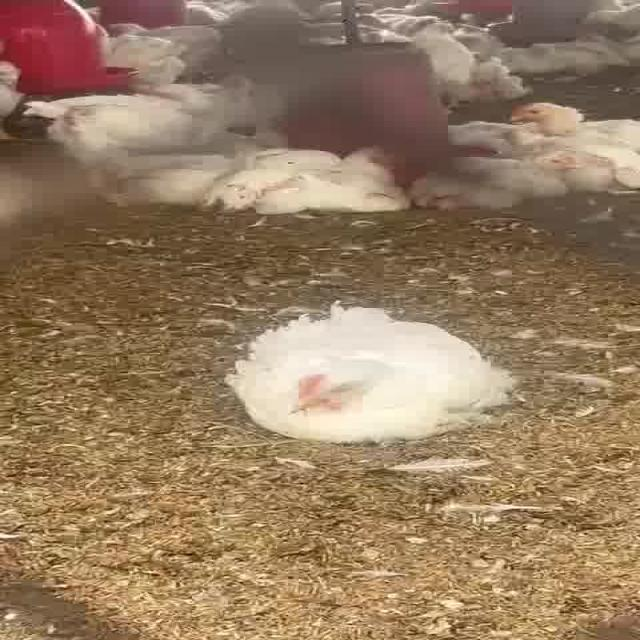AbNormal: (232, 306, 500, 442), (218, 144, 404, 210), (428, 152, 579, 206), (510, 99, 640, 148)
